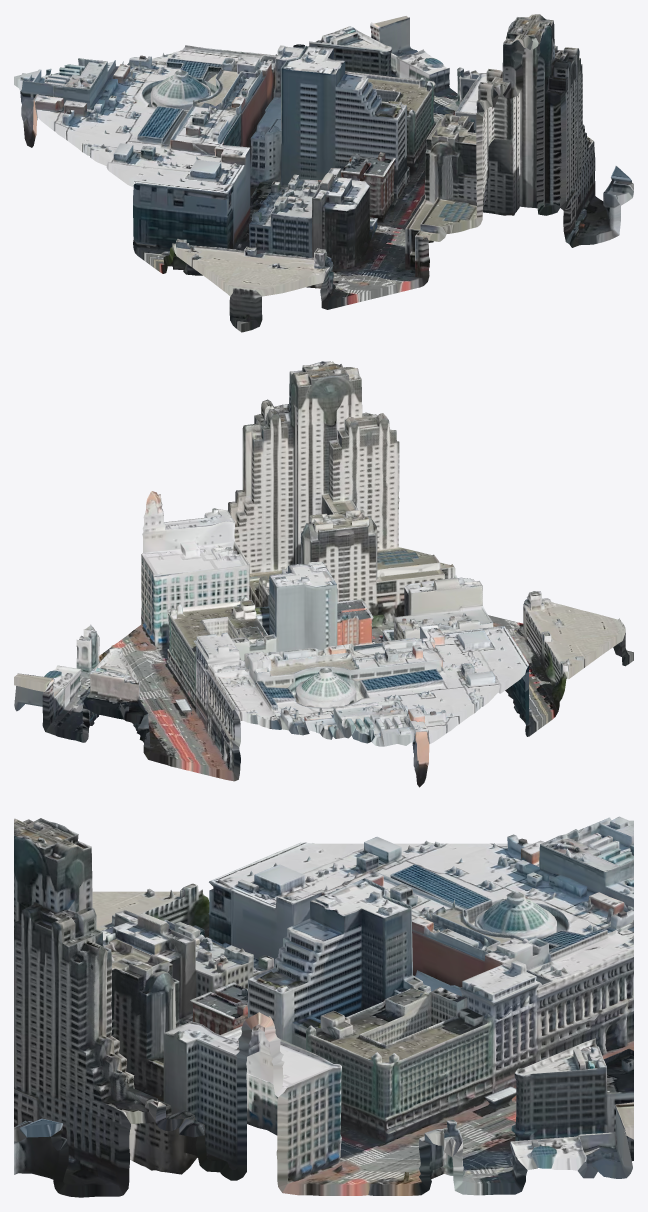
The model's file is z17-20969-50657-h0-yup-uvflip-v3-world.glb.
3 renders of one model, top to bottom at view 1: azimuth 30°, elevation 25°; view 2: azimuth 150°, elevation 25°; view 3: azimuth 270°, elevation 25°, orthographic. The views are drawn at different scales.
Size of the model in its own units: 241 by 133 by 243.
Materials: 1 (1 with a texture image).
